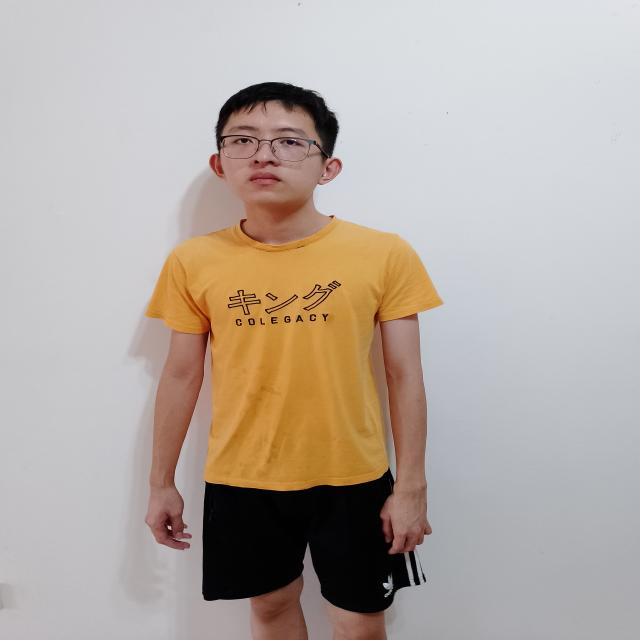person_without_labcoat: (146, 83, 442, 640)
